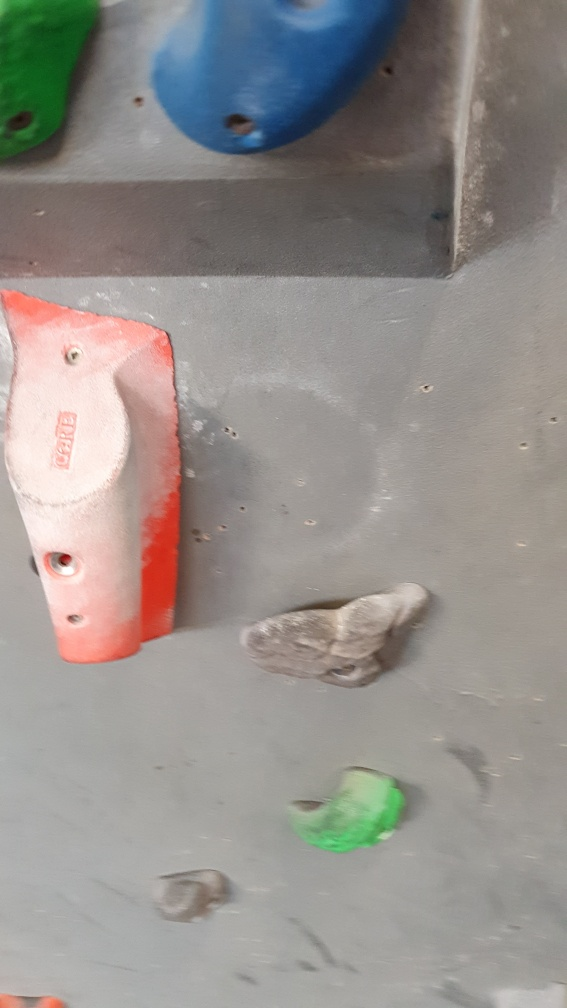Jug: (241, 584, 439, 692), (284, 765, 410, 854)
Pinch: (1, 281, 192, 676)
